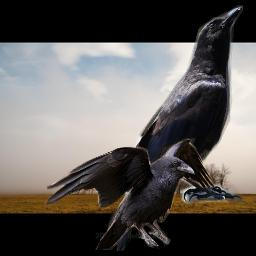Crow: (107, 5, 243, 251), (44, 138, 216, 250)
